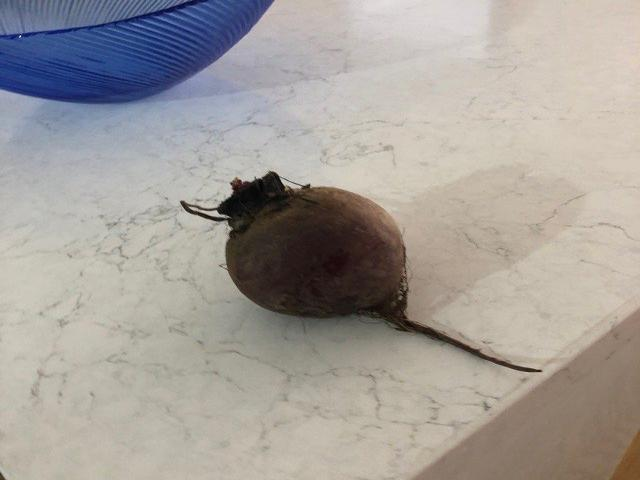beet: (182, 172, 540, 374)
